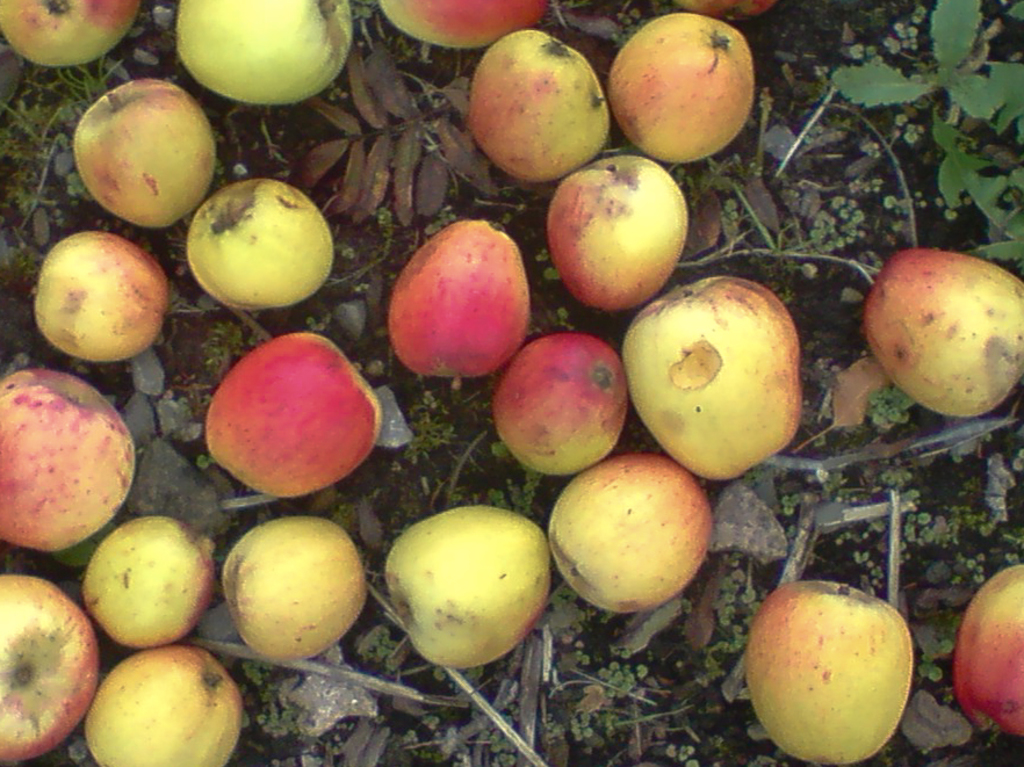Apple: (0, 0, 1022, 765), (544, 147, 697, 319), (956, 561, 1022, 742)
